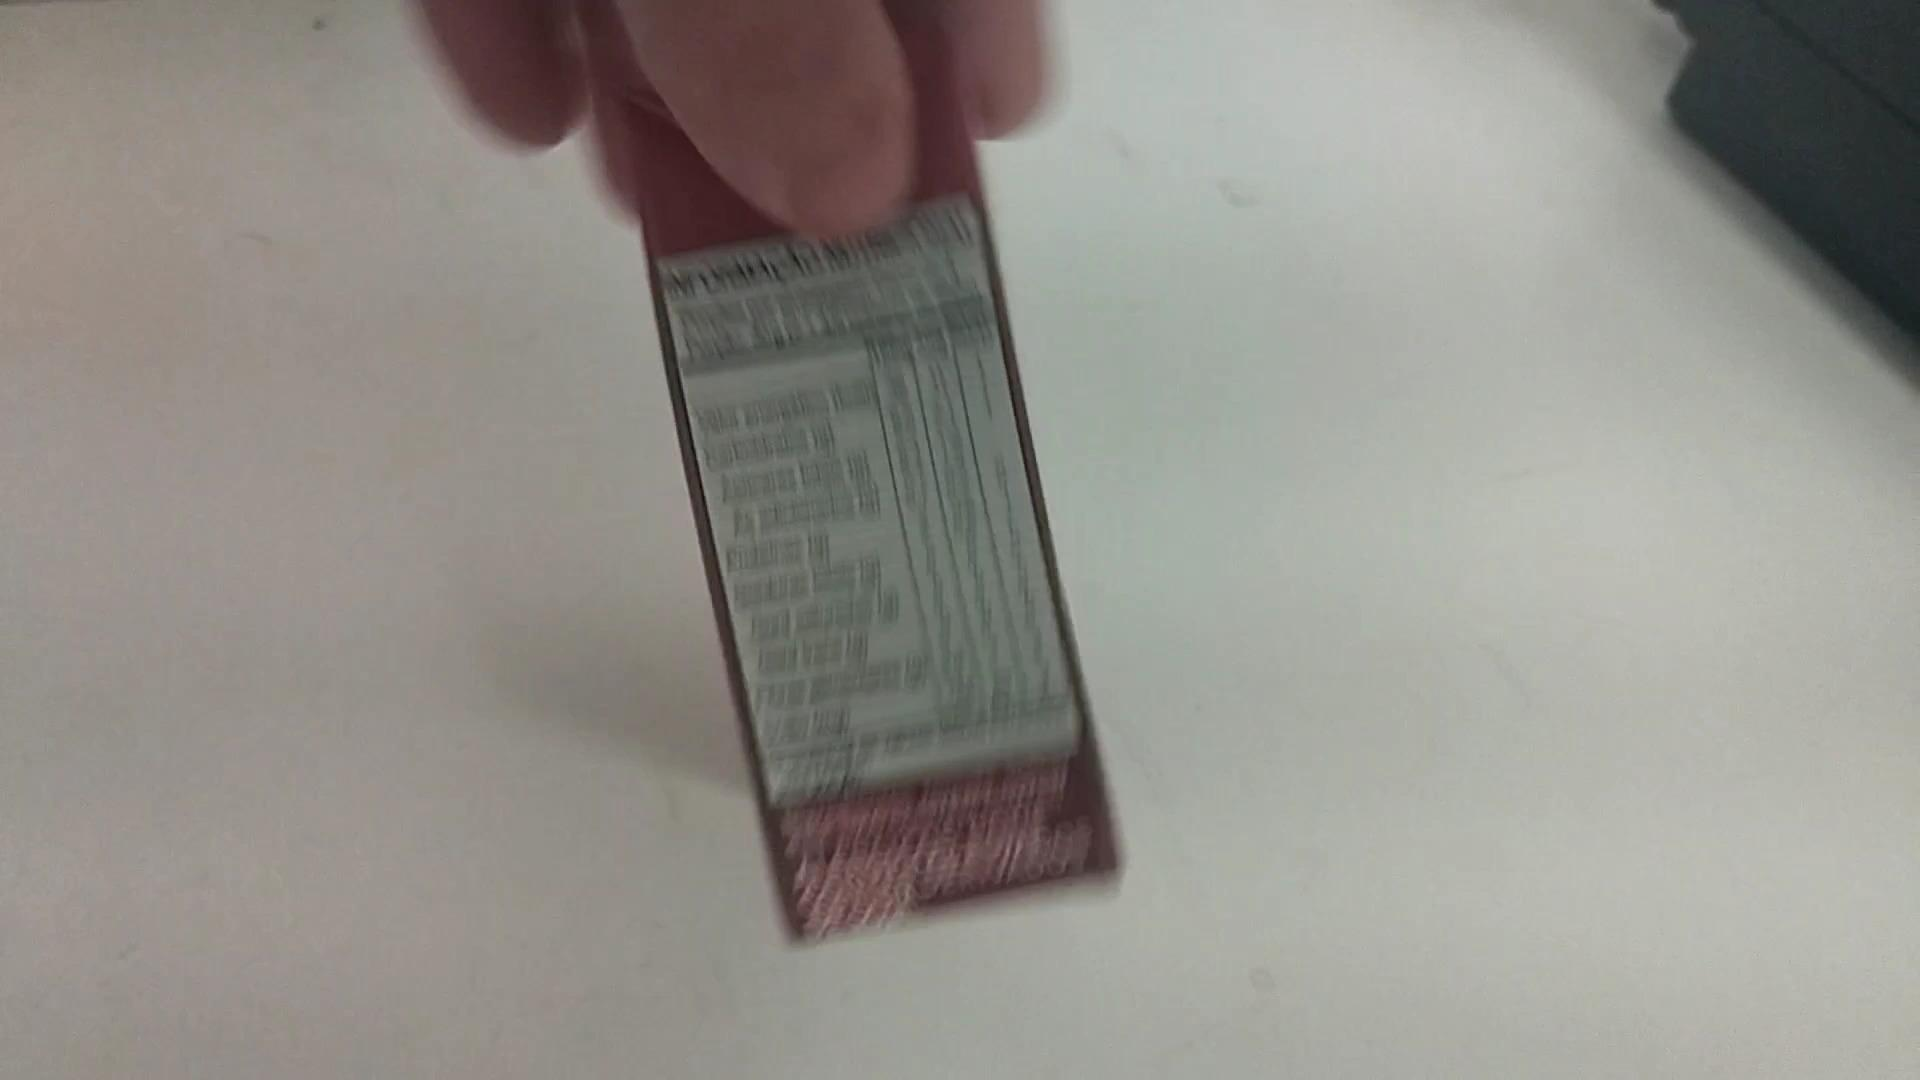tomate: (589, 18, 1127, 949)
